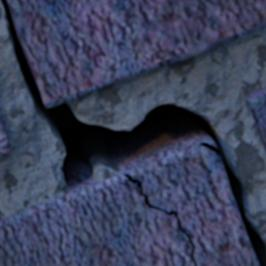brick: (0, 137, 257, 265), (7, 0, 265, 106), (246, 87, 265, 153), (0, 118, 11, 155)
crack: (2, 0, 265, 265), (122, 173, 195, 265)
